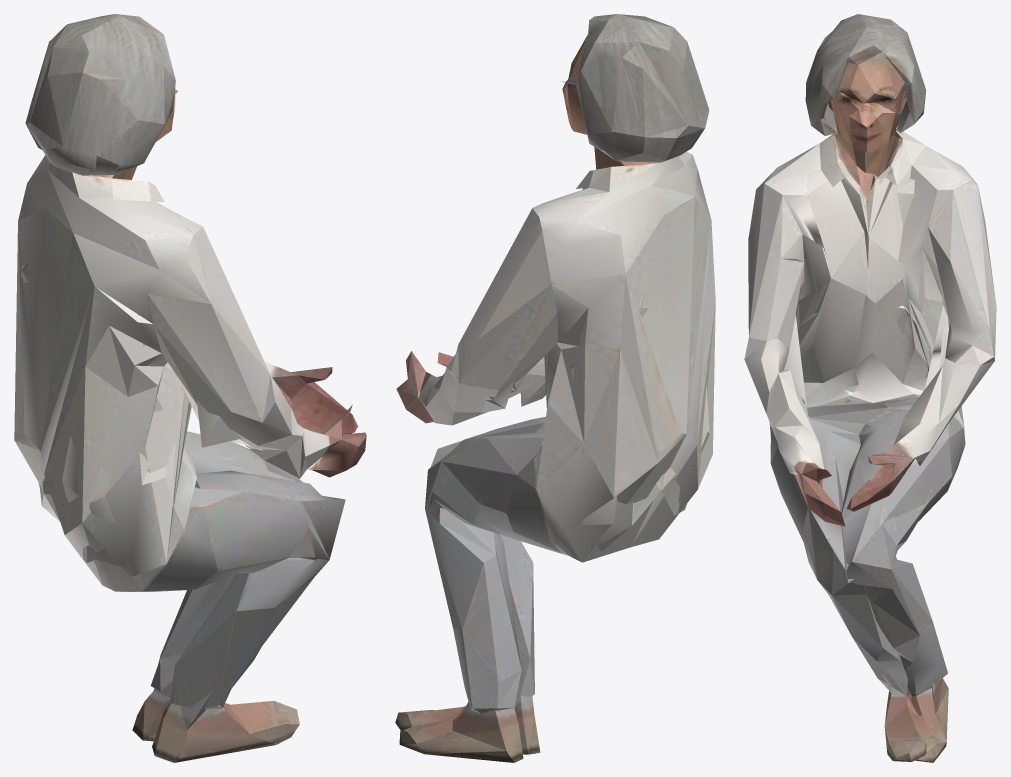
The model's file is crowd-sp-4.glb.
3 renders of one model, left to right at view 1: azimuth 30°, elevation 25°; view 2: azimuth 150°, elevation 25°; view 3: azimuth 270°, elevation 25°, orthographic. The views are drawn at different scales.
Parts seen in each view (by area): view 1: char1; view 2: char1; view 3: char1.
Part boxes in pixels (<box>): char1: <box>14,14,366,762</box>; char1: <box>395,14,715,762</box>; char1: <box>744,14,996,762</box>.
Size of the model in its own units: 0.5584 by 1.32 by 0.4586.
Materials: 1 (1 with a texture image).
